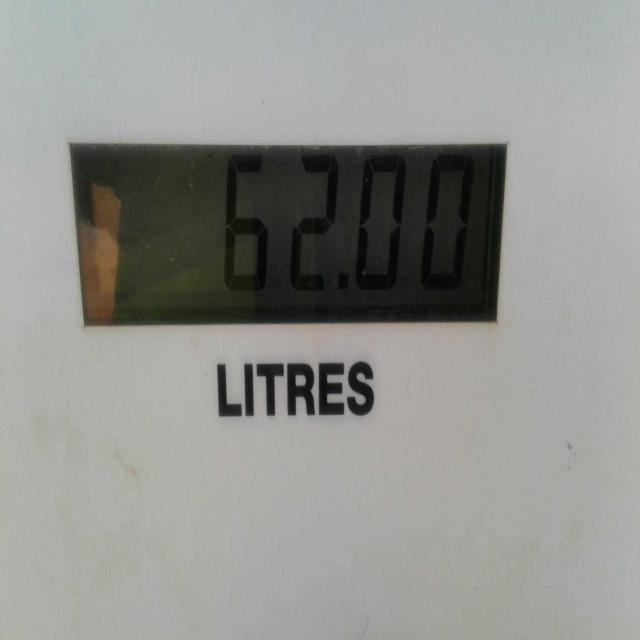.: (332, 257, 357, 301)
0: (413, 144, 482, 326), (353, 150, 414, 298)
2: (282, 148, 355, 304)
6: (211, 142, 281, 302)
